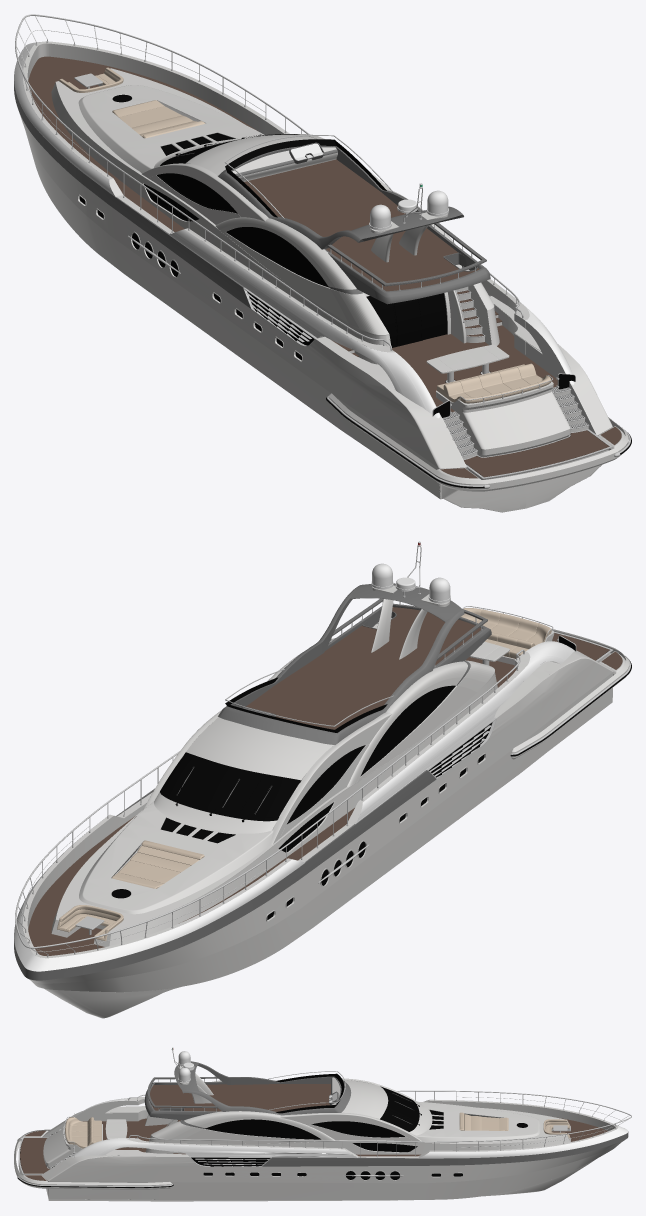
File: super_yacht02.glb
3 renders of one model, top to bottom at view 1: azimuth 30°, elevation 25°; view 2: azimuth 150°, elevation 25°; view 3: azimuth 270°, elevation 25°, orthographic. The views are drawn at different scales.
Visible parts, largest first — view 1: Layer:Layer008; view 2: Layer:Layer008; view 3: Layer:Layer008.
Boxes of the visible parts, left/top/right/bottom form: Layer:Layer008: left=14, top=14, right=631, bottom=512; Layer:Layer008: left=14, top=541, right=631, bottom=1018; Layer:Layer008: left=14, top=1047, right=631, bottom=1201.
Size of the model in its own units: 86.11 by 101 by 392.
